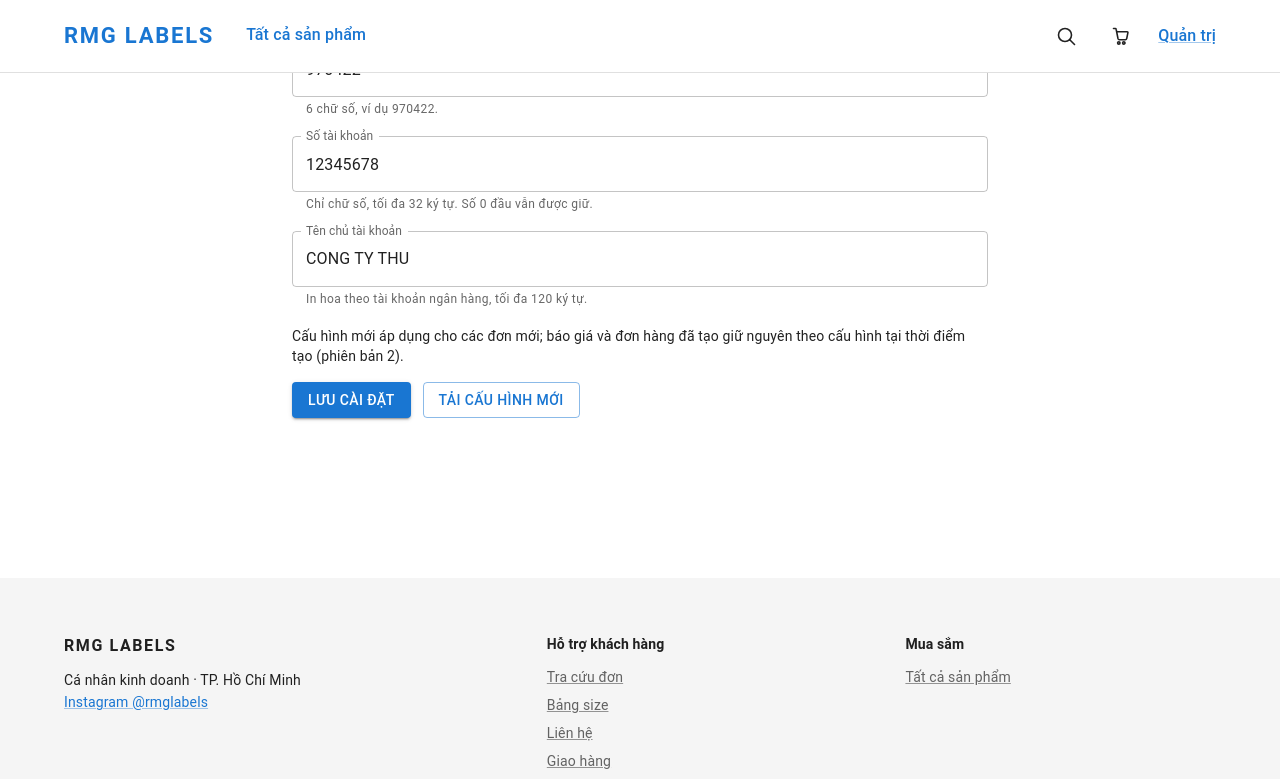
Test: admin settings page › keeps the original command retryable after a lost response and a failed reload
(page scrolled)
Click the button "Lưu cài đặt" at point(351, 400), box [292, 382, 411, 418]
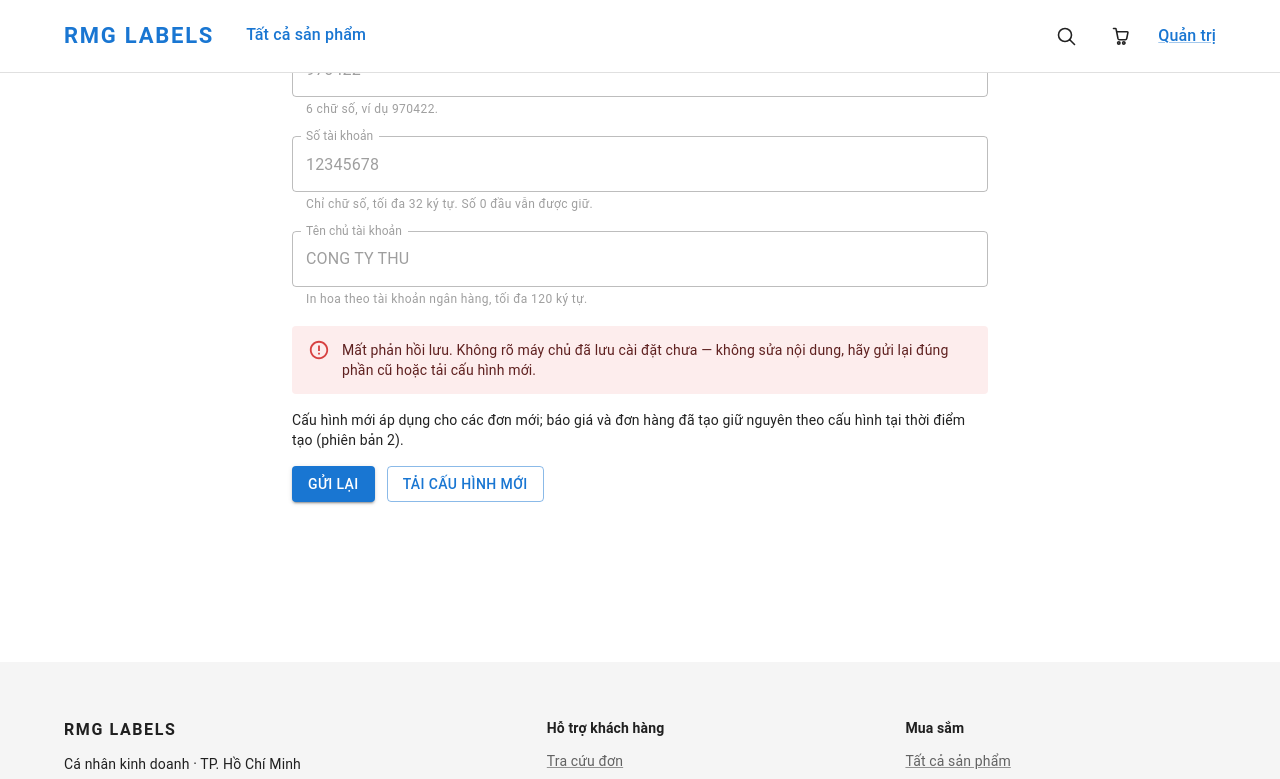
Now the button "Gửi lại" is shown, box [292, 466, 375, 502]
Click the button "Tải cấu hình mới" at point(465, 484), box [387, 466, 544, 502]
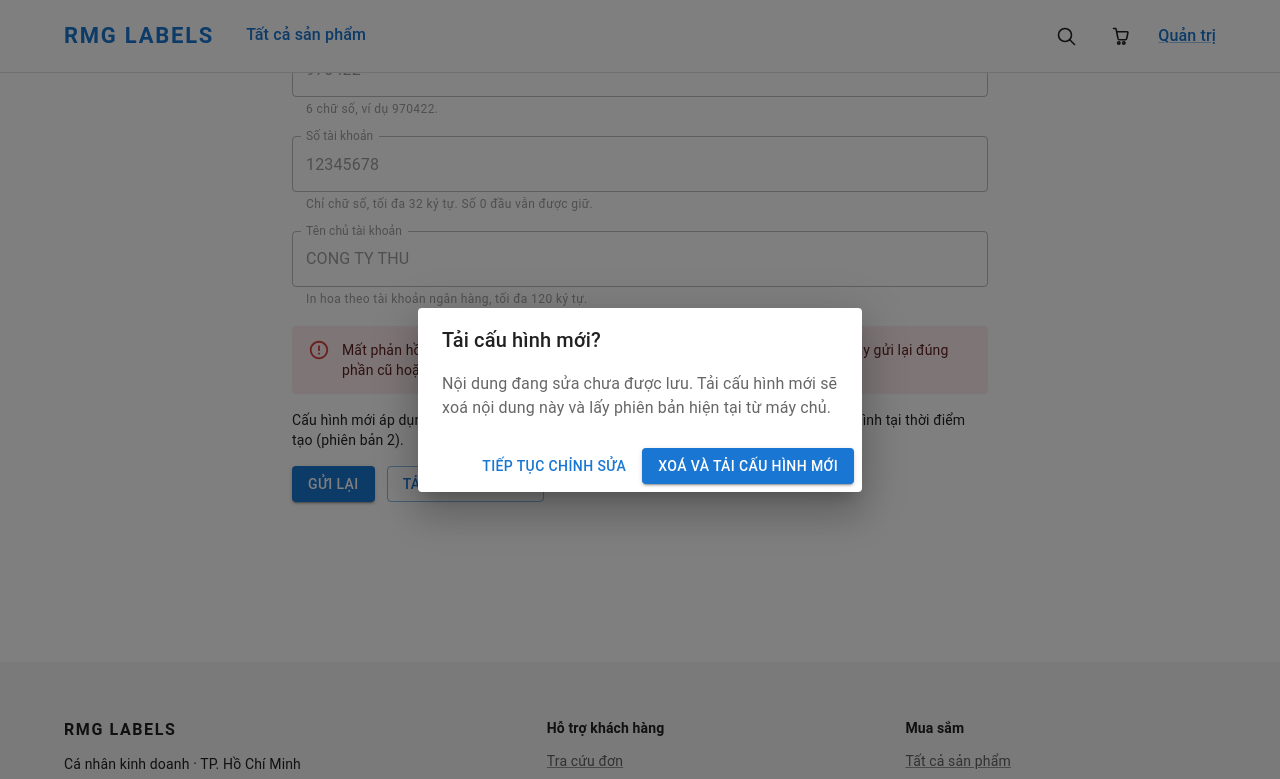
Click the button "Xoá và tải cấu hình mới" at point(748, 466), box [642, 448, 854, 484]
(page scrolled)
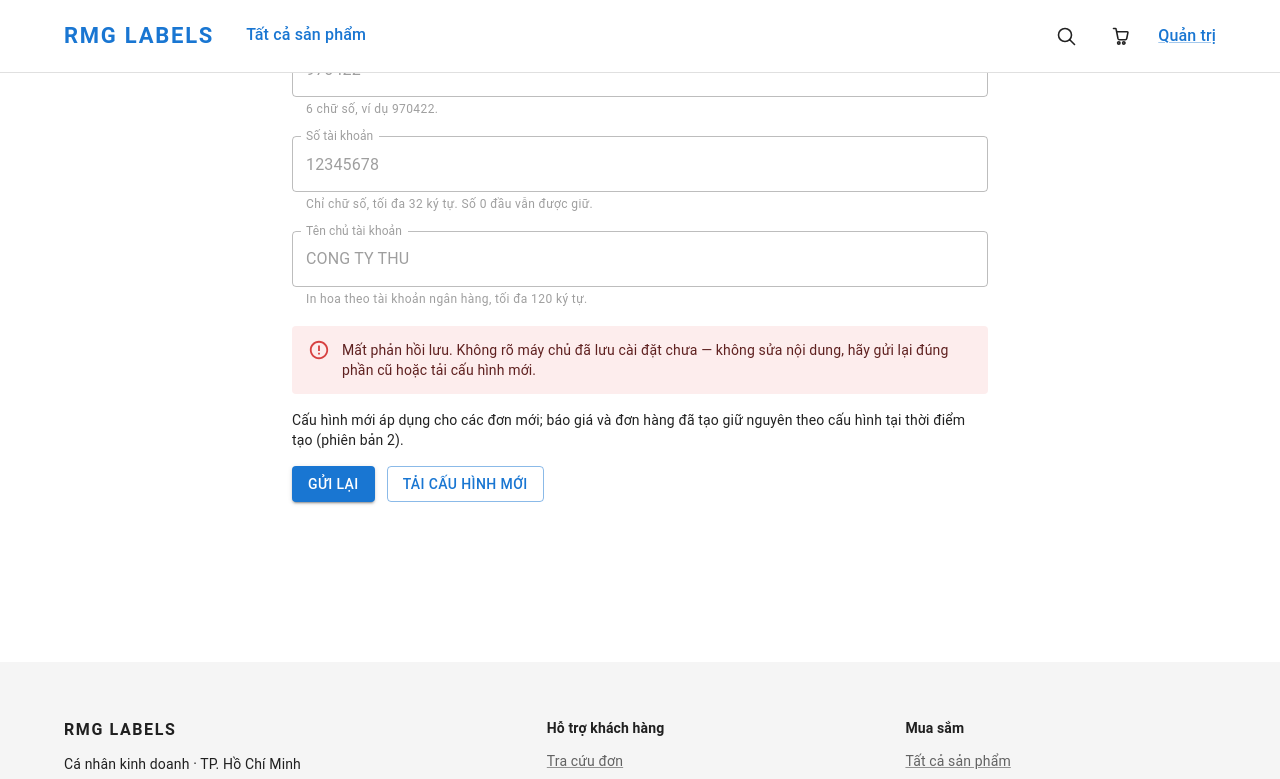
Now the dialog is gone
Click the button "Gửi lại" at point(333, 484), box [292, 466, 375, 502]
(page scrolled)
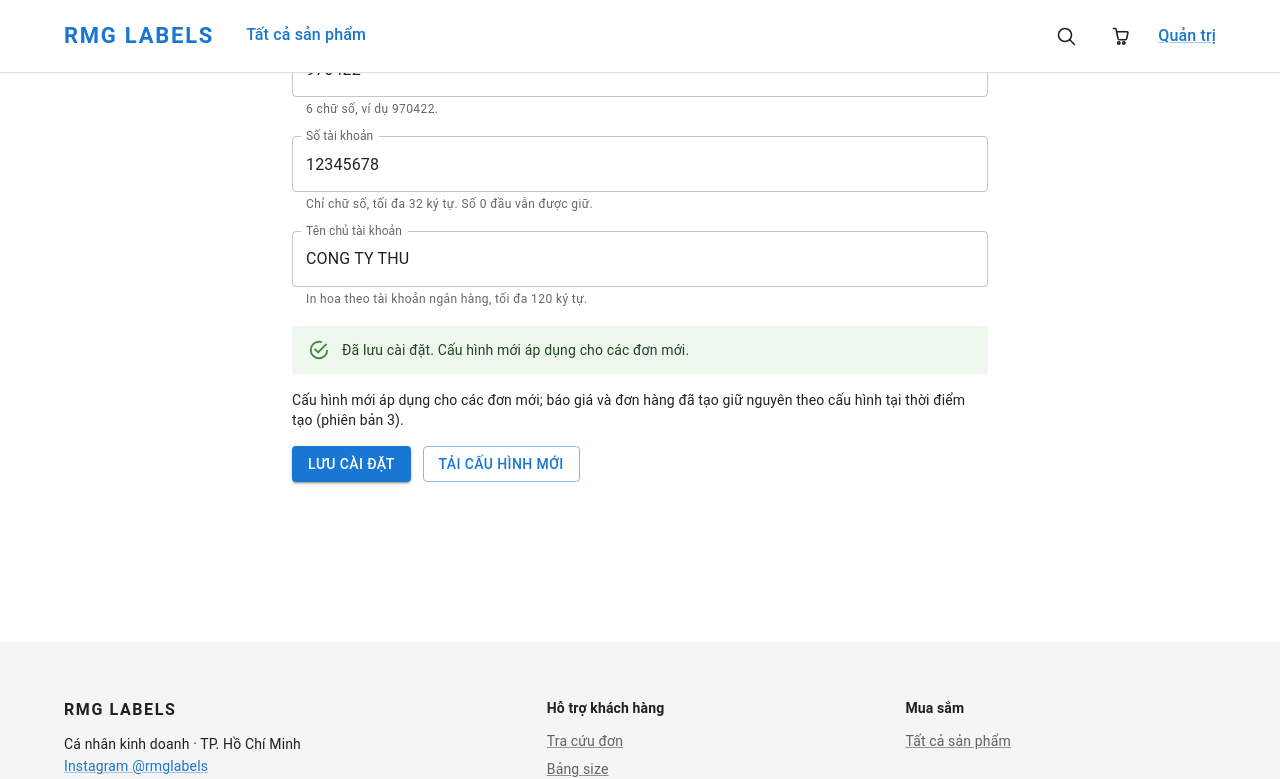
Now the text "Đã lưu cài đặt. Cấu hình mới áp dụng cho các đơn mới." is shown, box [342, 342, 689, 358]
